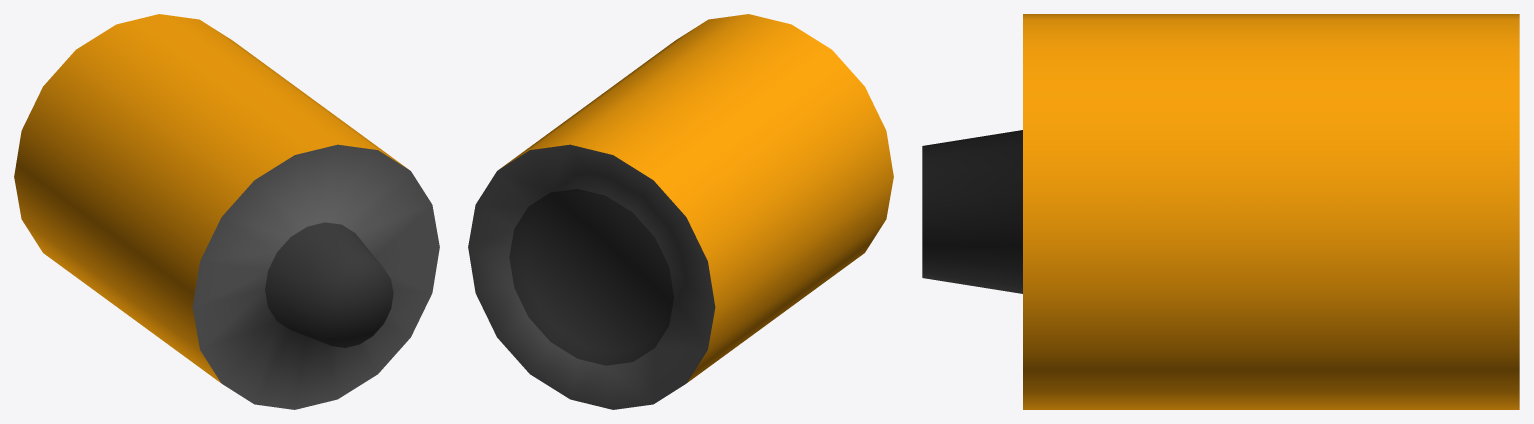
File: Battery.FBX
The picture shows the model from 3 angles, left to right: view 1: azimuth 30°, elevation 25°; view 2: azimuth 150°, elevation 25°; view 3: azimuth 270°, elevation 25°; orthographic projection. The views are drawn at different scales.
Parts seen in each view (by area): view 1: Cylinder001; view 2: Cylinder001; view 3: Cylinder001.
Boxes of the visible parts, left/top/right/bottom form: Cylinder001: left=14, top=14, right=439, bottom=409; Cylinder001: left=468, top=14, right=893, bottom=409; Cylinder001: left=922, top=14, right=1519, bottom=409.
Bounding box in the file's own units: 60.12 × 59.21 × 90.38.
